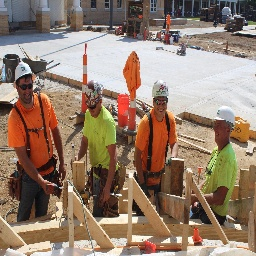helmet: (82, 81, 105, 107), (213, 104, 238, 127), (13, 59, 39, 81), (150, 77, 169, 101)
no-vest: (10, 97, 66, 187), (81, 109, 121, 193), (140, 106, 173, 183), (207, 147, 237, 216)
person: (7, 48, 69, 212), (78, 76, 124, 209), (139, 73, 176, 201), (202, 109, 242, 226)
